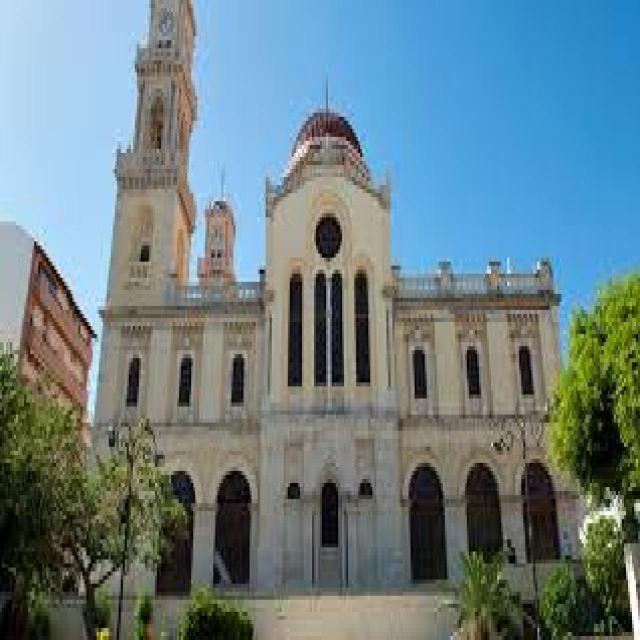Agios Minas: (90, 1, 589, 582)
